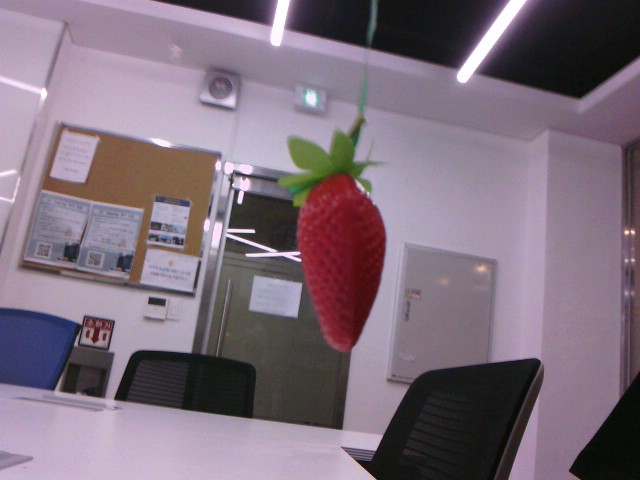strawberry: (282, 155, 392, 354)
